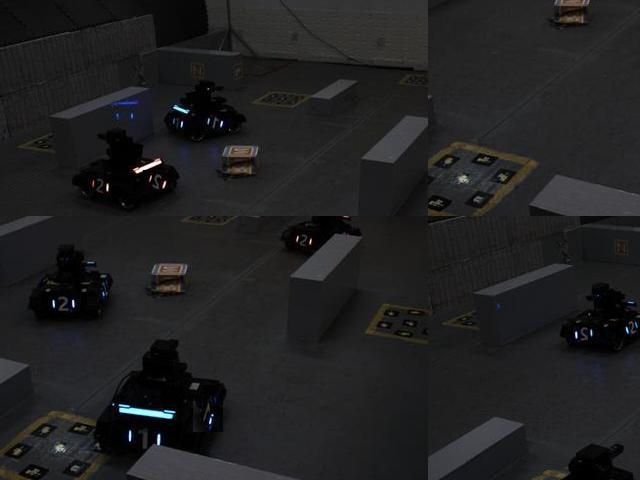armor: (120, 419, 169, 457), (194, 404, 225, 434), (48, 293, 78, 316), (143, 171, 169, 196), (88, 174, 113, 198), (205, 112, 229, 134), (573, 325, 597, 345), (618, 316, 639, 338), (292, 230, 314, 250), (171, 114, 186, 133)
